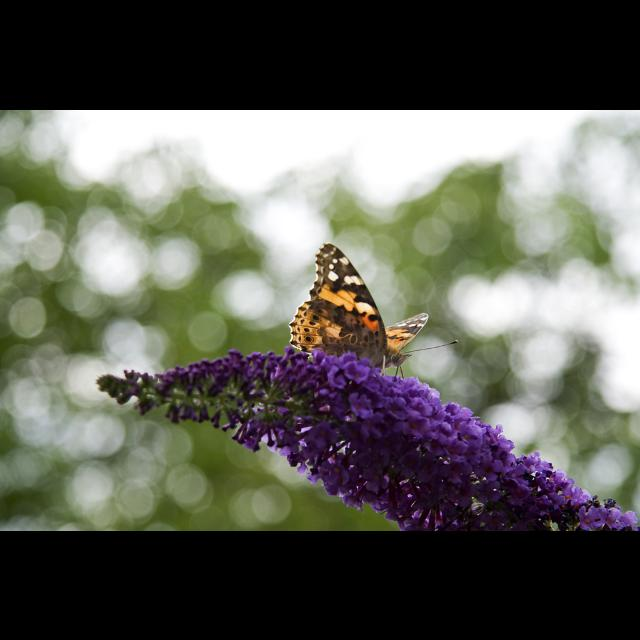Flower: (91, 350, 639, 528)
